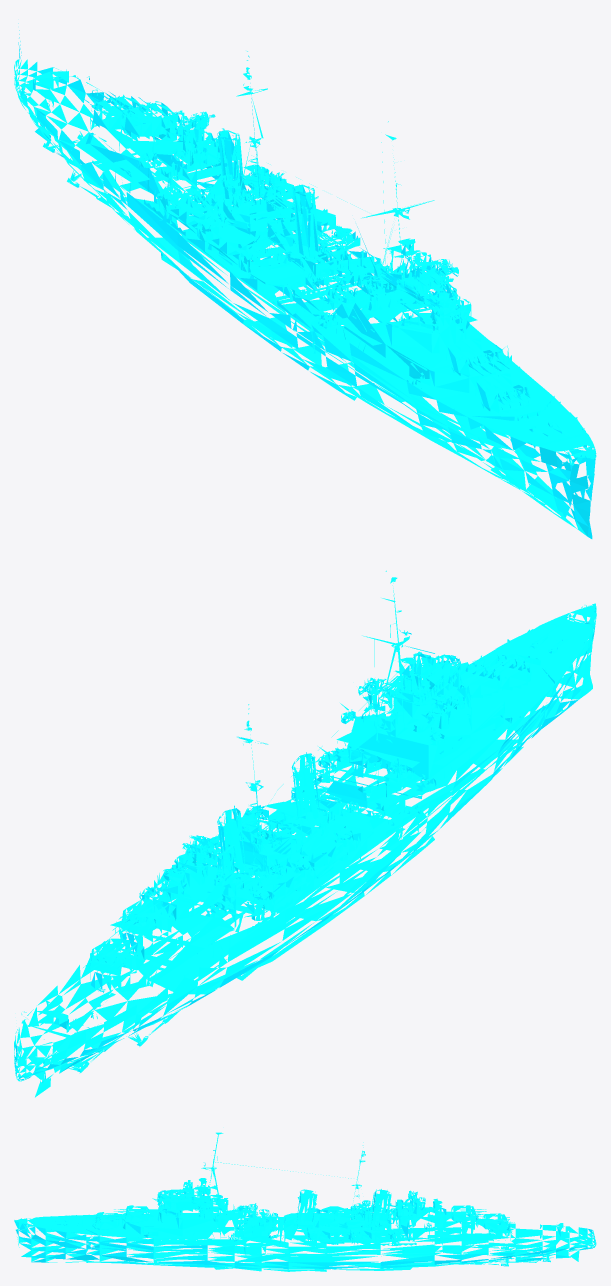
File: PBSC920.glb
3 views of the same model, one above another, from view 1: azimuth 30°, elevation 25°; view 2: azimuth 150°, elevation 25°; view 3: azimuth 270°, elevation 25° (orthographic). The views are drawn at different scales.
Visible parts, largest first — view 1: hull, turret; view 2: hull, turret; view 3: hull, turret.
Boxes of the visible parts, bbox=[...] form: hull: bbox=[14, 23, 596, 538]; turret: bbox=[82, 51, 531, 411]; hull: bbox=[14, 570, 596, 1097]; turret: bbox=[83, 652, 531, 976]; hull: bbox=[14, 1132, 596, 1271]; turret: bbox=[92, 1142, 514, 1244].
Bounding box in the file's own units: 1.57 × 3.28 × 12.71.
